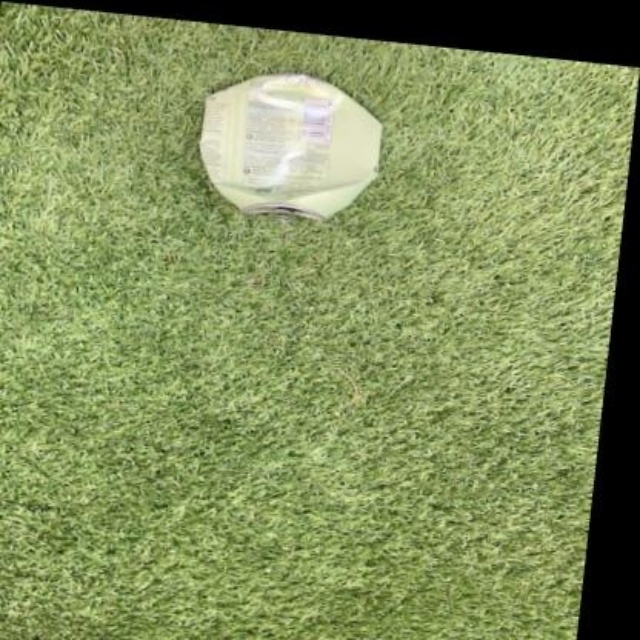trash: (200, 74, 382, 218)
